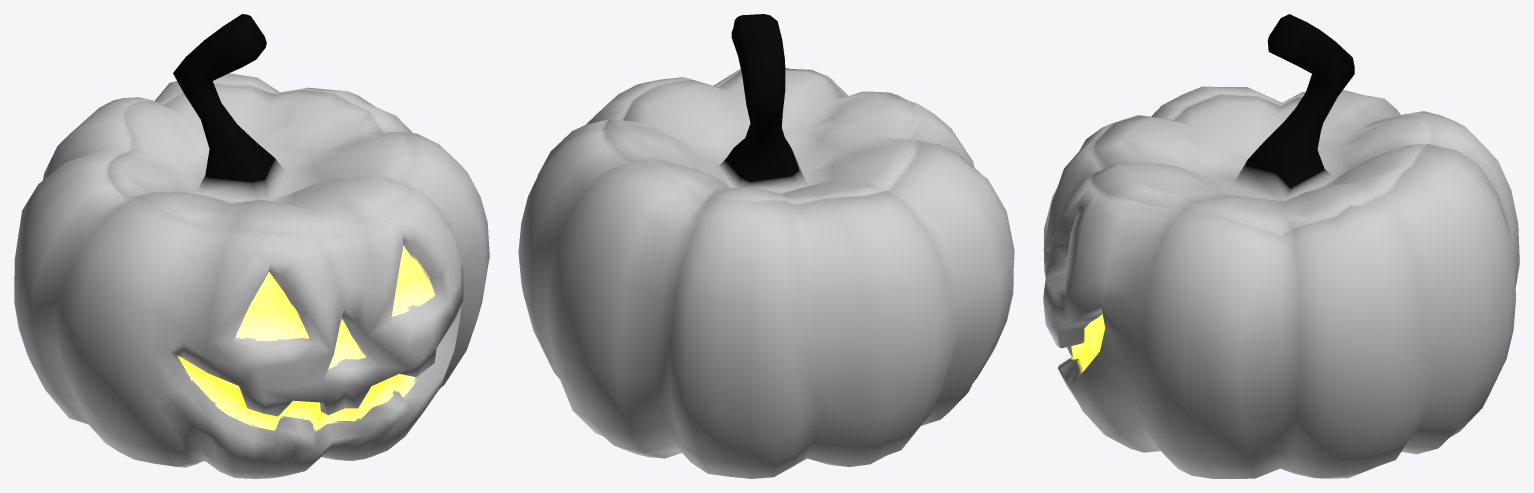
The model's file is ME_Pumpkin01.fbx.
3 views of the same model, side by side, from view 1: azimuth 30°, elevation 25°; view 2: azimuth 150°, elevation 25°; view 3: azimuth 270°, elevation 25° (orthographic). The views are drawn at different scales.
Visible parts, largest first — view 1: RetopoFlow; view 2: RetopoFlow; view 3: RetopoFlow.
Boxes of the visible parts, x1=… form: RetopoFlow: x1=14, y1=14, x2=489, y2=478; RetopoFlow: x1=518, y1=14, x2=1014, y2=478; RetopoFlow: x1=1043, y1=14, x2=1519, y2=478.
Size of the model in its own units: 1.45 by 1.31 by 1.39.
